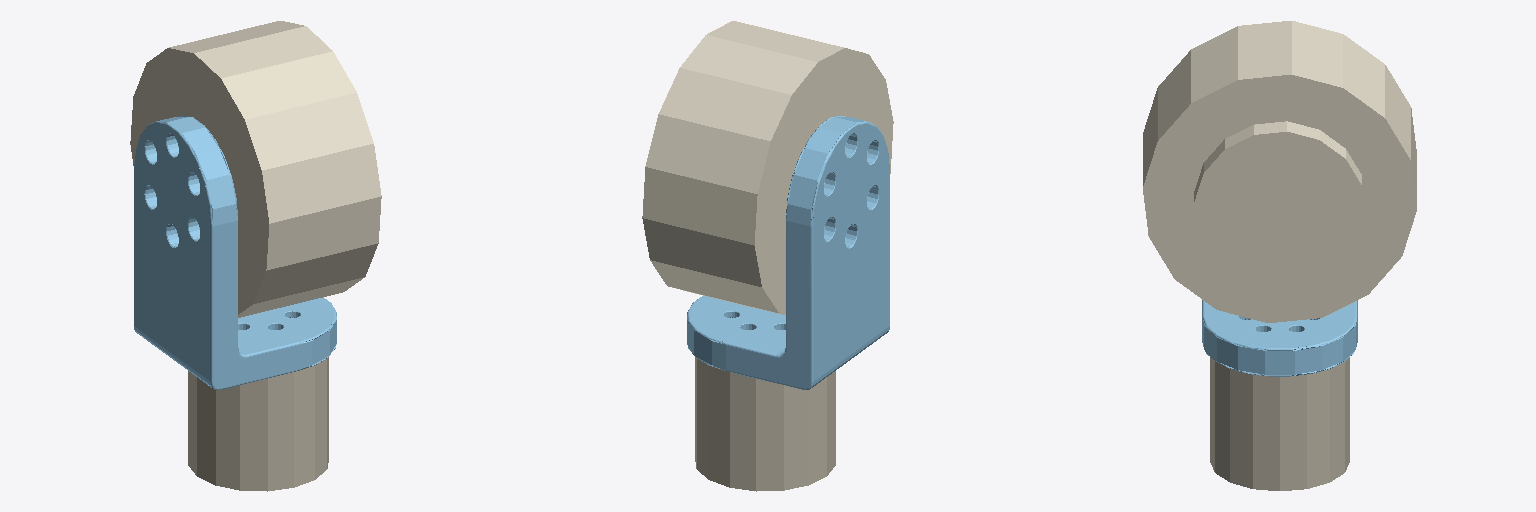
robot.urdf — simple_turret:
<?xml version="1.0" ?>
<robot name="simple_turret">

  <!-- ======================== LINKS ======================== -->

  <link name="root" />

  <link name="part_1_1">
    <inertial>
      <mass value="0.392289" />
      <origin xyz="0 0 -0.02825" rpy="0 0 0" />
      <inertia ixx="0.000184016" ixy="0" ixz="0"
               iyy="0.000184016" iyz="0" izz="0.000159318" />
    </inertial>
    <visual>
      <origin xyz="0 0 -0.0565" rpy="0 0 0" />
      <geometry>
        <mesh filename="package://simple_turret_moveit/meshes/Part 1_1.stl" scale="1 1 1" />
      </geometry>
      <material name="base_color">
        <color rgba="0.8 0.776471 0.713726 1" />
      </material>
    </visual>
    <collision>
      <origin xyz="0 0 -0.02825" rpy="0 0 0" />
      <geometry>
        <cylinder radius="0.04" length="0.0565" />
      </geometry>
    </collision>
  </link>

  <link name="part_1_2">
    <inertial>
      <mass value="0.000105555" />
      <origin xyz="-0.0242053 0 0.0325355" rpy="0 0 0" />
      <inertia ixx="1.30623e-07" ixy="0" ixz="2.82613e-08"
               iyy="1.28931e-07" iyz="0" izz="6.53473e-08" />
    </inertial>
    <visual>
      <origin xyz="0 0 -0.004" rpy="0 0 0" />
      <geometry>
        <mesh filename="package://simple_turret_moveit/meshes/Part 1_2.stl" scale="1 1 1" />
      </geometry>
      <material name="connector_color">
        <color rgba="0.615686 0.811765 0.929412 1" />
      </material>
    </visual>
    <collision>
      <origin xyz="-0.0242 0 0.0325" rpy="0 0 0" />
      <geometry>
        <box size="0.05 0.03 0.065" />
      </geometry>
    </collision>
  </link>

  <link name="part_1">
    <inertial>
      <mass value="1.49866" />
      <origin xyz="0 0 0.028166" rpy="0 0 0" />
      <inertia ixx="0.0015335" ixy="0" ixz="0"
               iyy="0.0015335" iyz="0" izz="0.00224985" />
    </inertial>
    <visual>
      <origin xyz="0 0 0" rpy="0 0 0" />
      <geometry>
        <mesh filename="package://simple_turret_moveit/meshes/Part 1.stl" scale="1 1 1" />
      </geometry>
      <material name="barrel_color">
        <color rgba="0.901961 0.878431 0.811765 1" />
      </material>
    </visual>
    <collision>
      <origin xyz="0 0 0.028" rpy="0 0 0" />
      <geometry>
        <cylinder radius="0.04" length="0.08" />
      </geometry>
    </collision>
  </link>

  <!-- IK end-effector target -->
  <link name="turret_tip" />

  <!-- ======================== JOINTS ======================== -->

  <joint name="fastened_1_0" type="fixed">
    <origin xyz="0 0 0" rpy="3.14159 0 0" />
    <parent link="root" />
    <child link="part_1_1" />
  </joint>

  <!-- Pan: bottom joint, Z axis, full 360° -->
  <joint name="pan" type="revolute">
    <origin xyz="0 0 -0.0565" rpy="3.14159 0 0" />
    <axis xyz="0 0 -1" />
    <parent link="part_1_1" />
    <child link="part_1_2" />
    <limit lower="-3.14159" upper="3.14159" velocity="10.0" effort="28.0" />
    <dynamics damping="0.1" friction="0.1" />
  </joint>

  <!-- Tilt: top joint, Y axis, ±180° -->
  <joint name="tilt" type="revolute">
    <origin xyz="-0.0273 0 0.0729055" rpy="1.5708 -1.48511 1.5708" />
    <axis xyz="0 0 -1" />
    <parent link="part_1_2" />
    <child link="part_1" />
    <limit lower="-3.14159" upper="3.14159" velocity="20.0" effort="200.0" />
    <dynamics damping="0.1" friction="0.1" />
  </joint>

  <!-- Fixed tip for IK -->
  <joint name="tip_joint" type="fixed">
    <origin xyz="0 0 0.06" rpy="0 0 0" />
    <parent link="part_1" />
    <child link="turret_tip" />
  </joint>

  <!-- ======================== ROS2_CONTROL ======================== -->

  <ros2_control name="damiao_system" type="system">
    <hardware>
      <plugin>damiao_driver/DamiaoHardwareInterface</plugin>
      <param name="serial_port">/dev/ttyACM0</param>
      <param name="baud_rate">921600</param>
      <param name="control_mode">pos_vel</param>
    </hardware>
    <joint name="pan">
      <param name="motor_type">DM4340</param>
      <param name="slave_id">0x02</param>
      <param name="master_id">0x12</param>
      <command_interface name="position">
        <param name="min">-3.14159</param>
        <param name="max">3.14159</param>
      </command_interface>
      <command_interface name="velocity">
        <param name="min">-10.0</param>
        <param name="max">10.0</param>
      </command_interface>
      <state_interface name="position"/>
      <state_interface name="velocity"/>
      <state_interface name="effort"/>
    </joint>
    <joint name="tilt">
      <param name="motor_type">DM10010</param>
      <param name="slave_id">0x01</param>
      <param name="master_id">0x11</param>
      <command_interface name="position">
        <param name="min">-3.14159</param>
        <param name="max">3.14159</param>
      </command_interface>
      <command_interface name="velocity">
        <param name="min">-20.0</param>
        <param name="max">20.0</param>
      </command_interface>
      <state_interface name="position"/>
      <state_interface name="velocity"/>
      <state_interface name="effort"/>
    </joint>
  </ros2_control>

</robot>

--- Facts derived from the render (not from the file) ---
3 views of the same robot in one strip: view 1: azimuth 30°, elevation 25°; view 2: azimuth 150°, elevation 25°; view 3: azimuth 270°, elevation 25° (orthographic).
Robot: simple_turret — 5 links, 4 joints (2 revolute, 2 fixed); root link root; default pose: all joints at 0.
Visible links, largest first — view 1: part_1, part_1_2, part_1_1; view 2: part_1, part_1_2, part_1_1; view 3: part_1, part_1_1, part_1_2.
Boxes of the visible links, box(x1,y1,x2,y2) form: part_1: box(130, 21, 381, 317); part_1_2: box(134, 115, 336, 389); part_1_1: box(188, 357, 328, 491); part_1: box(642, 21, 893, 315); part_1_2: box(687, 115, 889, 389); part_1_1: box(695, 357, 835, 491); part_1: box(1143, 21, 1416, 322); part_1_1: box(1210, 357, 1349, 490); part_1_2: box(1202, 300, 1357, 376).
Size in the robot's own frame: 0.0747 by 0.1116 by 0.1852 metres.
3 mesh visuals loaded from 3 distinct referenced files (3 ASCII STL).
